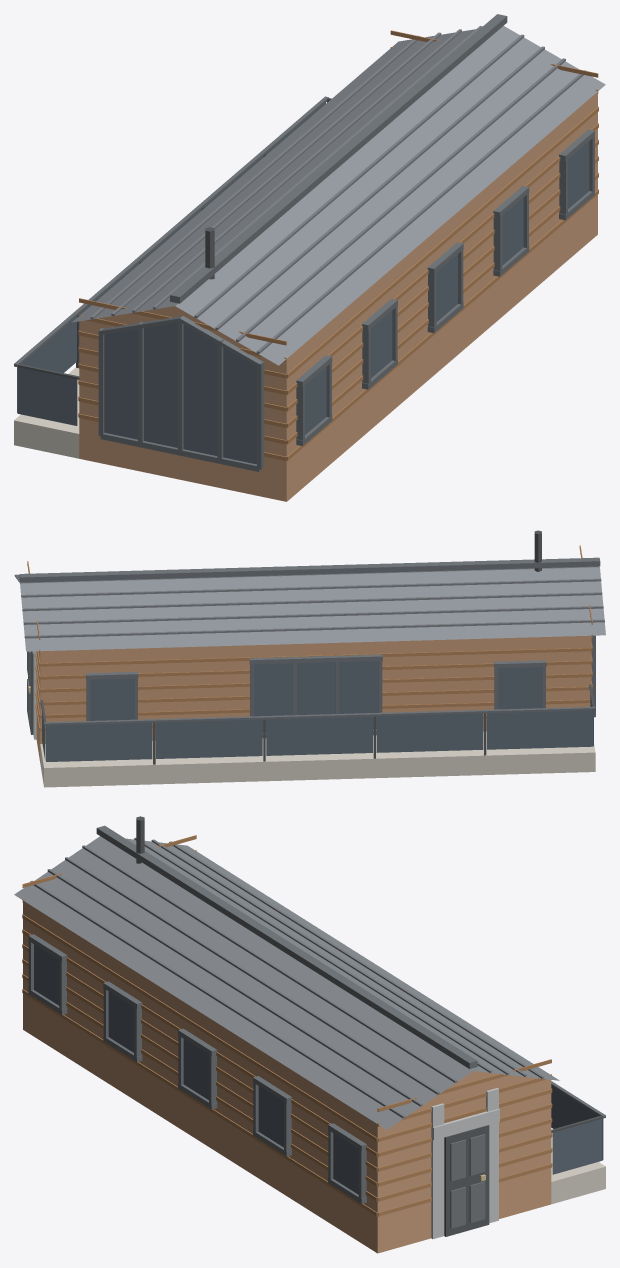
3 renders of one model, top to bottom at view 1: azimuth 30°, elevation 25°; view 2: azimuth 150°, elevation 25°; view 3: azimuth 270°, elevation 25°, orthographic. The views are drawn at different scales.
Visible parts, largest first — view 1: slate_lt, timber_stain, slate_dk, window_glass_013, slate, timber_stain_dk, window_glass_007, deck_grey, window_glass_005, window_glass_014, window_glass_016, window_glass_017 (+3 smaller); view 2: slate_lt, timber_stain, deck_grey, slate_dk, slate, timber_stain_dk, window_glass_004, window_glass_002, window_glass_003, window_glass_005, window_glass_001, window_glass_010 (+5 smaller); view 3: slate_lt, timber_stain, slate_dk, slate, timber_stain_dk, stone_band, door_dark_p, door_dark, window_glass_006, deck_grey, window_glass_016, window_glass_014 (+4 smaller).
Boxes of the visible parts, <box> form: slate_lt: <box>72,26,605,365</box>; timber_stain: <box>79,92,597,501</box>; slate_dk: <box>14,14,594,471</box>; window_glass_013: <box>104,322,256,464</box>; slate: <box>90,26,586,353</box>; timber_stain_dk: <box>78,30,598,460</box>; window_glass_007: <box>17,367,77,425</box>; deck_grey: <box>14,367,79,458</box>; window_glass_005: <box>17,317,76,412</box>; window_glass_014: <box>305,367,326,434</box>; window_glass_016: <box>436,254,457,321</box>; window_glass_017: <box>502,198,523,265</box>; slate_lt: <box>14,566,605,651</box>; timber_stain: <box>36,635,591,762</box>; deck_grey: <box>40,731,595,787</box>; slate_dk: <box>19,557,600,737</box>; slate: <box>15,574,604,638</box>; timber_stain_dk: <box>27,545,592,731</box>; window_glass_004: <box>376,713,483,752</box>; window_glass_002: <box>156,719,262,758</box>; window_glass_003: <box>266,716,372,755</box>; window_glass_005: <box>487,710,593,749</box>; window_glass_001: <box>46,722,152,761</box>; window_glass_010: <box>339,661,378,729</box>; slate_lt: <box>14,836,559,1129</box>; timber_stain: <box>23,900,551,1253</box>; slate_dk: <box>28,825,605,1203</box>; slate: <box>30,837,544,1118</box>; timber_stain_dk: <box>22,835,552,1216</box>; stone_band: <box>431,1088,499,1239</box>; door_dark_p: <box>450,1134,485,1228</box>; door_dark: <box>444,1125,489,1236</box>; window_glass_006: <box>552,1118,602,1174</box>; deck_grey: <box>551,1133,605,1204</box>; window_glass_016: <box>183,1039,208,1099</box>; window_glass_014: <box>34,944,59,1005</box>.
Size of the model in its own units: 12.68 by 4.14 by 10.79.
